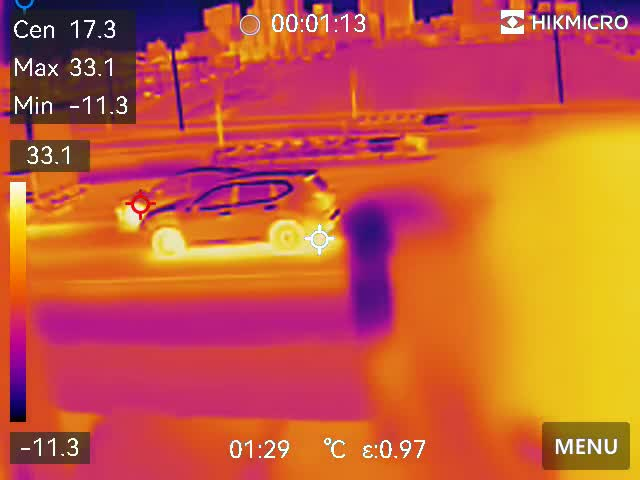largeCar: (131, 165, 361, 263)
